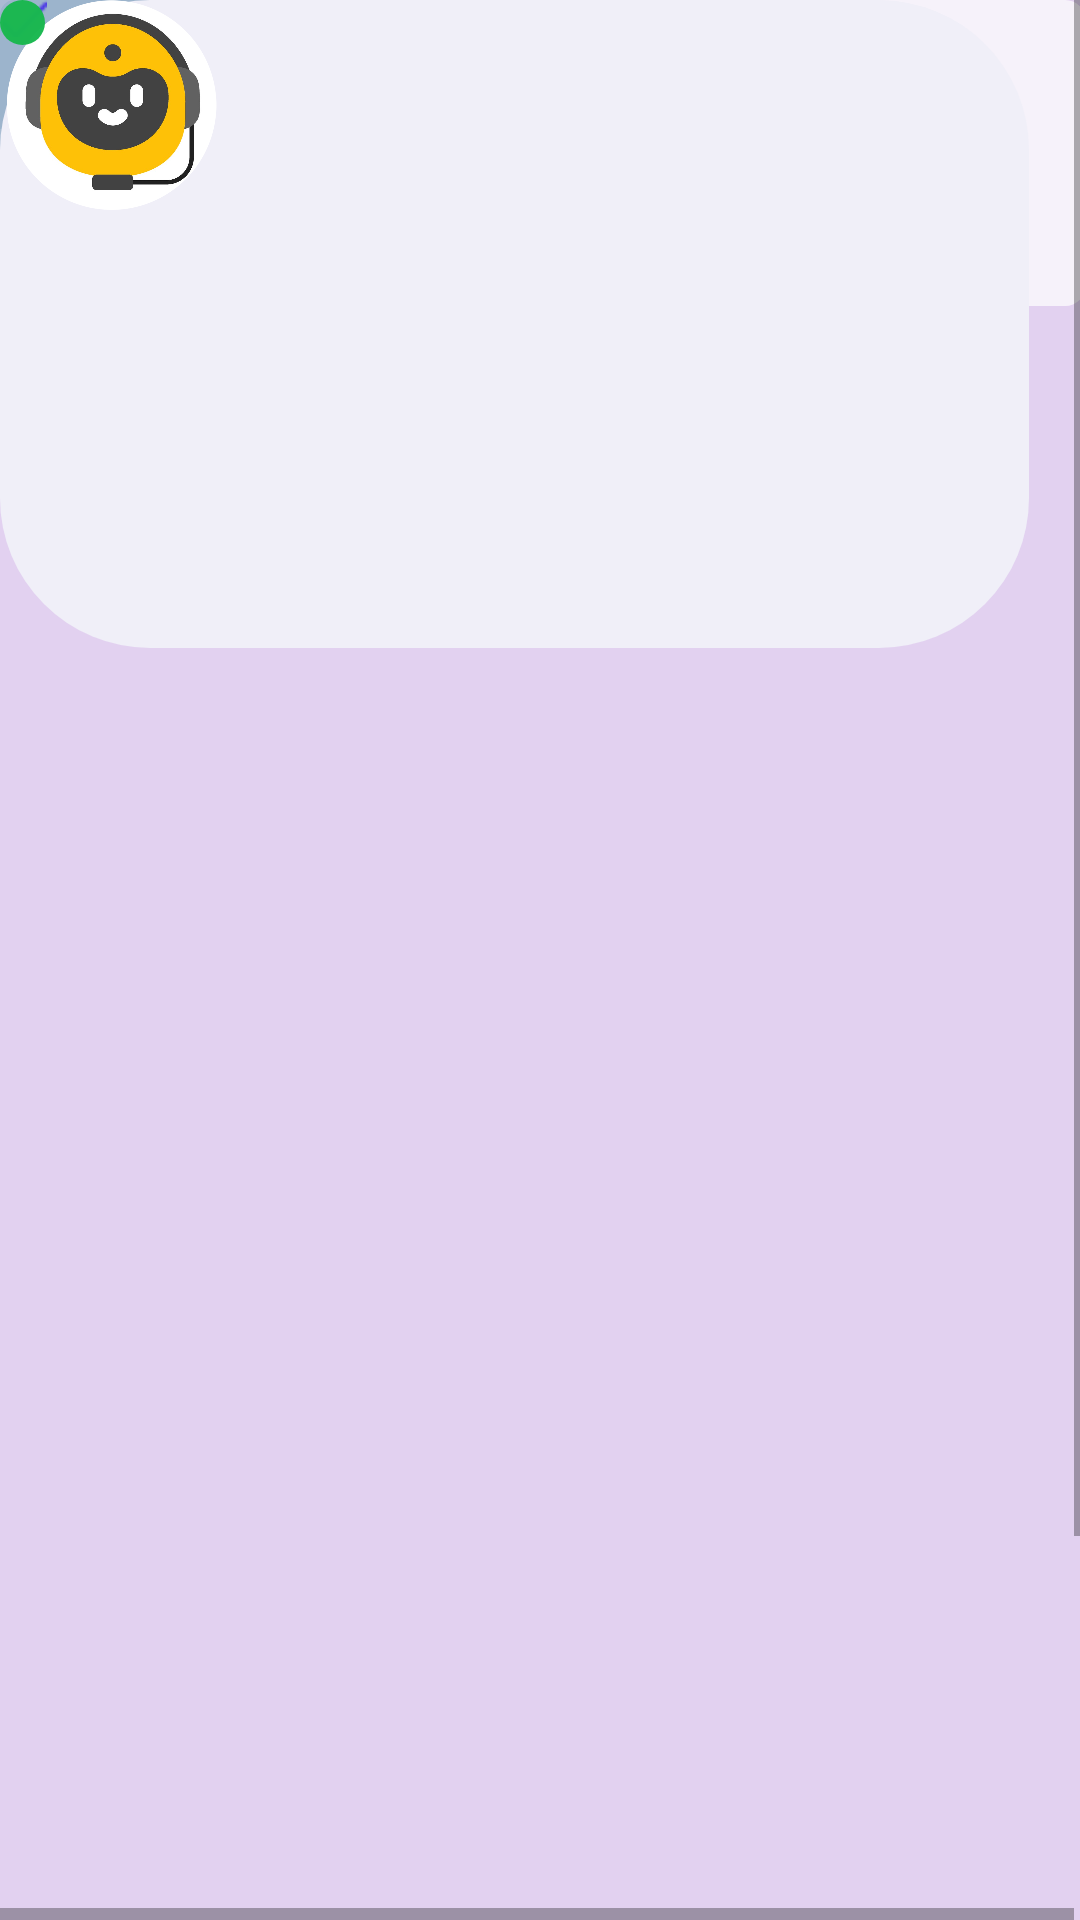

Icon click points for this 1080x1920 phone screenshot, format point (x, y):
robots face: point (100, 95)
